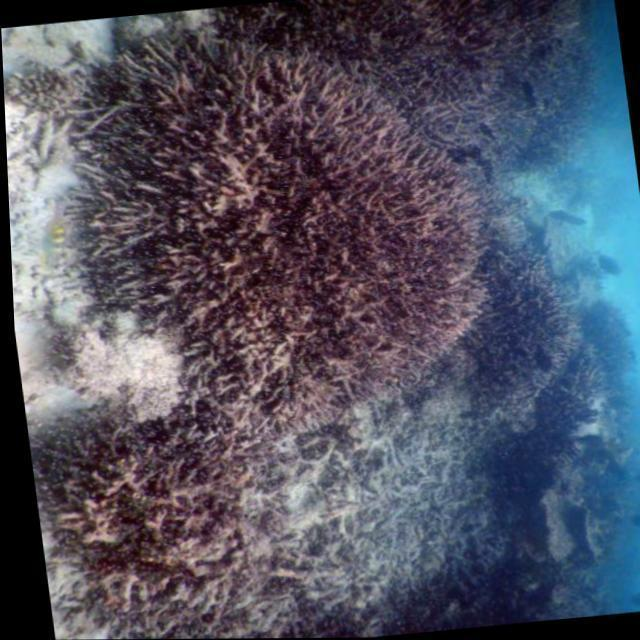Dead Coral: (59, 0, 594, 436), (18, 369, 290, 640)
